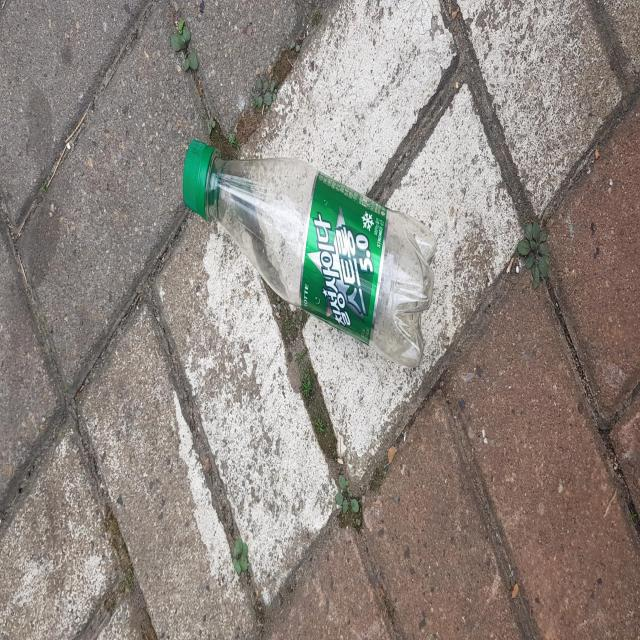plastic: (183, 140, 437, 365)
